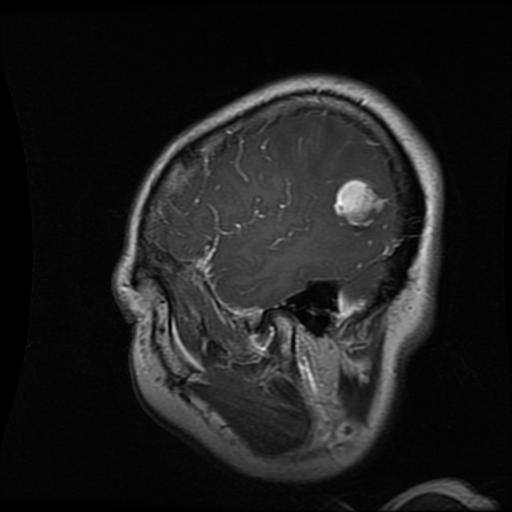Gliomia_tumour: (333, 178, 386, 227)
